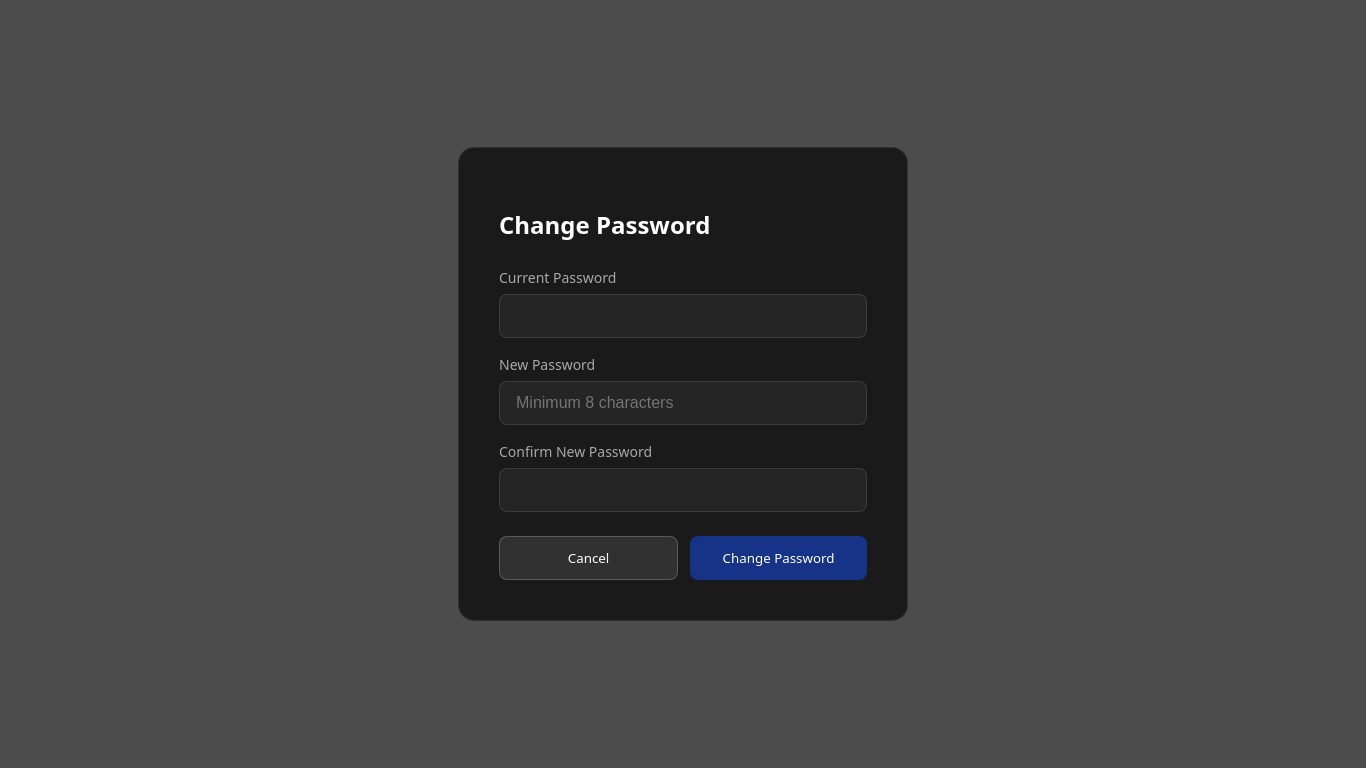
Scenario: ChangePasswordWizard — validation › shows an error when the new password is shorter than 8 characters
Type "old-password" into the password field below "Current Password" at (683, 316), box x1=499 y1=294 x2=867 y2=338
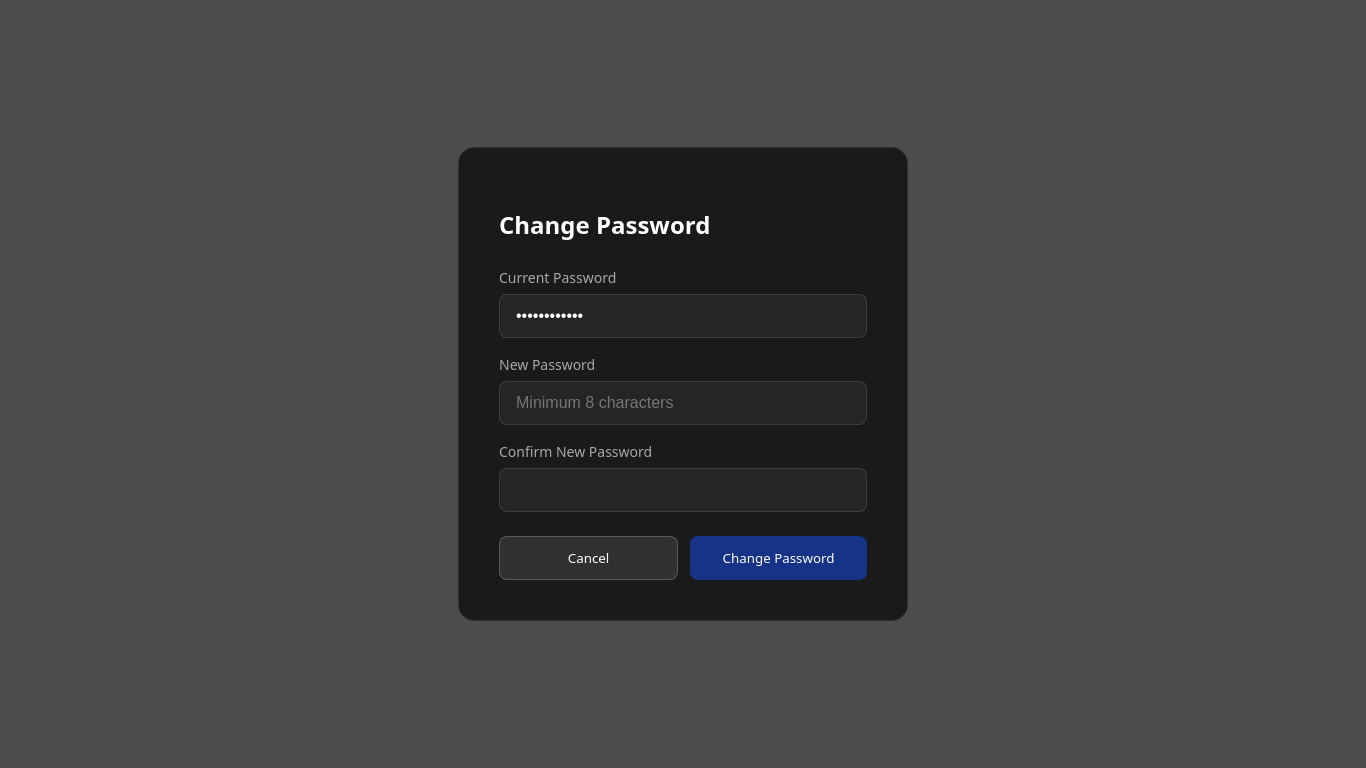
Type "short" into the password field with placeholder "Minimum 8 characters" at (683, 404), box x1=499 y1=382 x2=867 y2=426
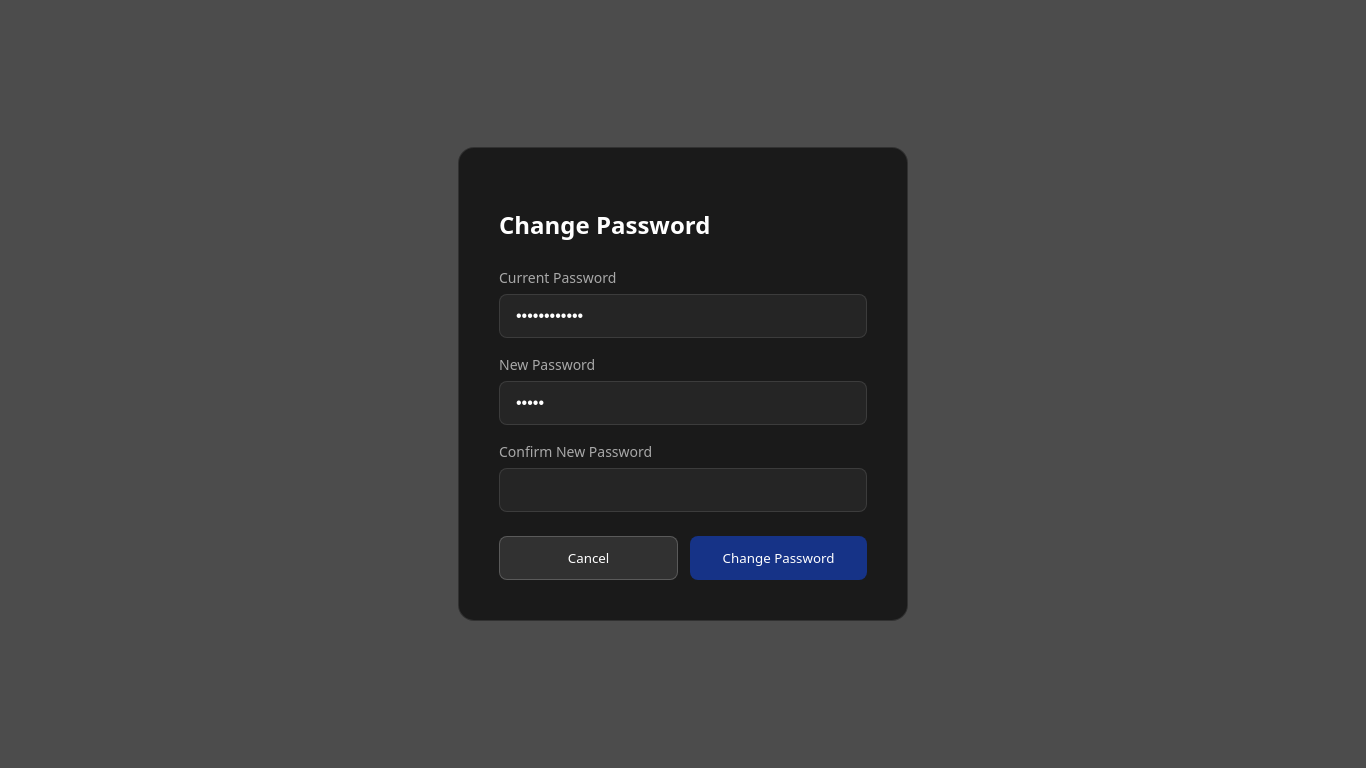
Type "short" into the password field below "Confirm New Password" at (683, 490), box x1=499 y1=468 x2=867 y2=512
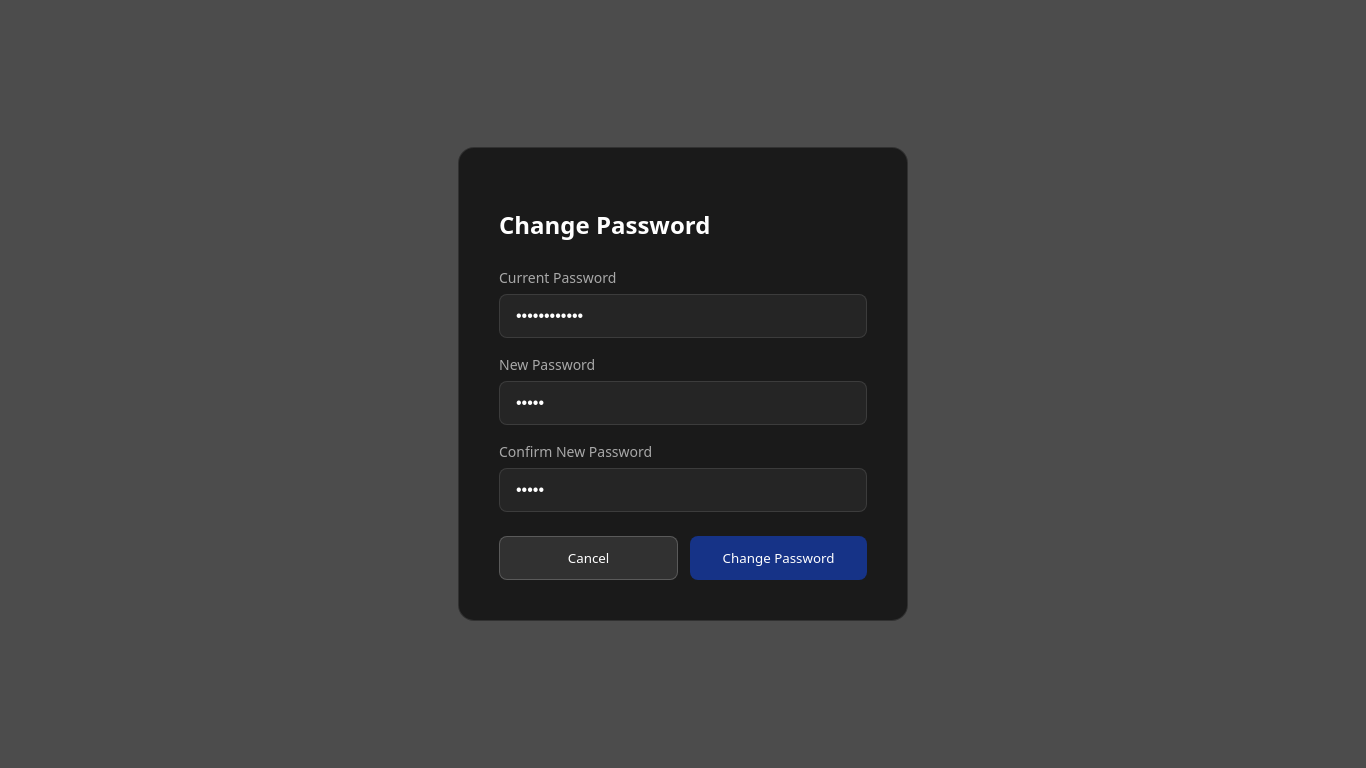
Click the button "Change Password" at (778, 558), box x1=690 y1=536 x2=867 y2=580
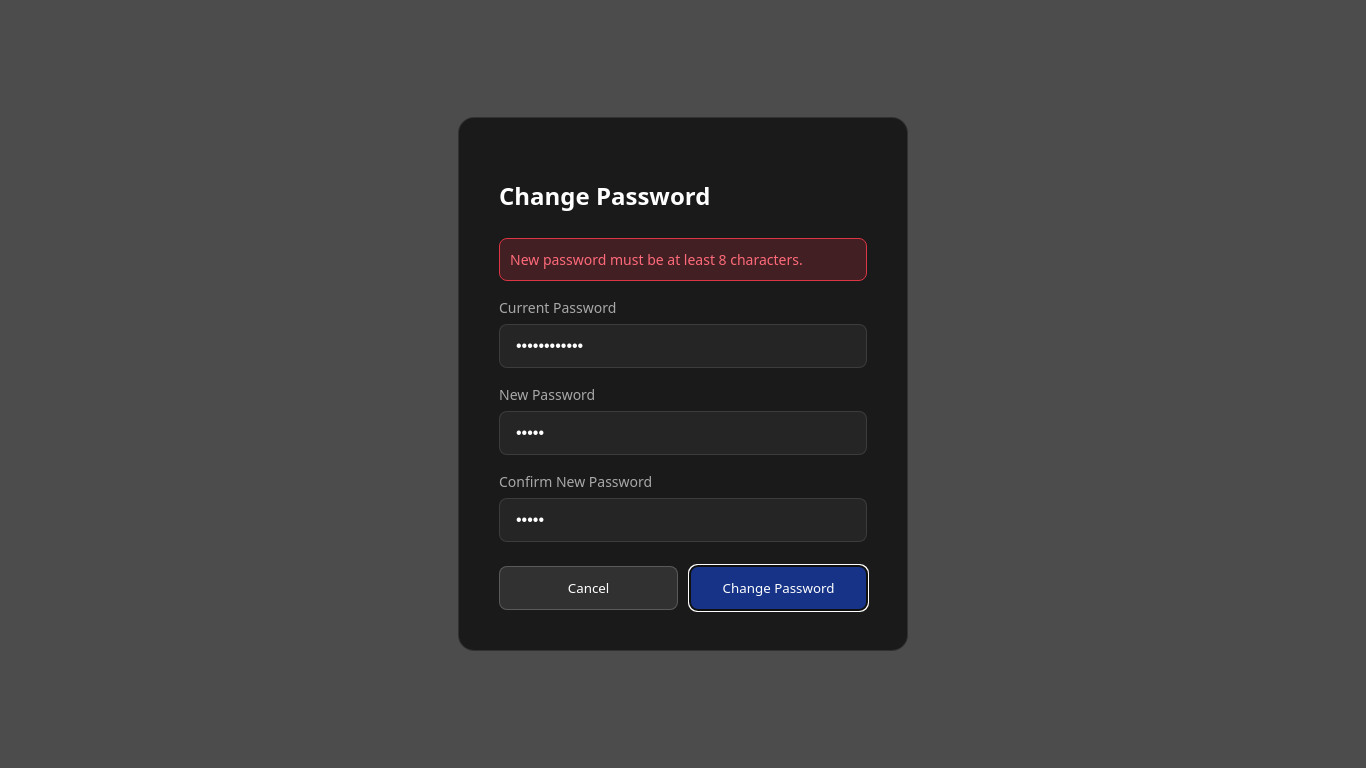
Result: the text "New password must be at least 8 characters." is shown at x1=499 y1=238 x2=867 y2=281
